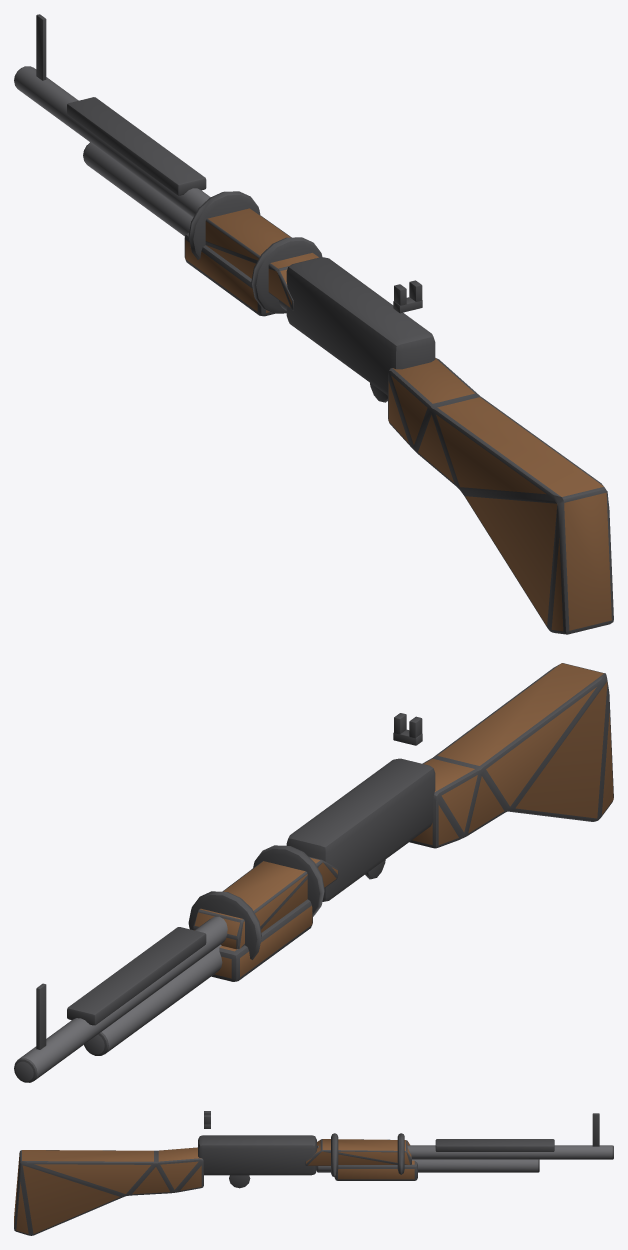
Rendered from trenchgun.glb.
3 renders of one model, top to bottom at view 1: azimuth 30°, elevation 25°; view 2: azimuth 150°, elevation 25°; view 3: azimuth 270°, elevation 25°, orthographic. The views are drawn at different scales.
Visible parts, largest first — view 1: trenchgun_LOD0; view 2: trenchgun_LOD0; view 3: trenchgun_LOD0.
Part boxes in pixels (x1=…): trenchgun_LOD0: x1=14, y1=14, x2=613, y2=634; trenchgun_LOD0: x1=14, y1=663, x2=613, y2=1082; trenchgun_LOD0: x1=14, y1=1111, x2=613, y2=1235.
Size of the model in its own units: 0.0744 by 0.2166 by 1.01.
